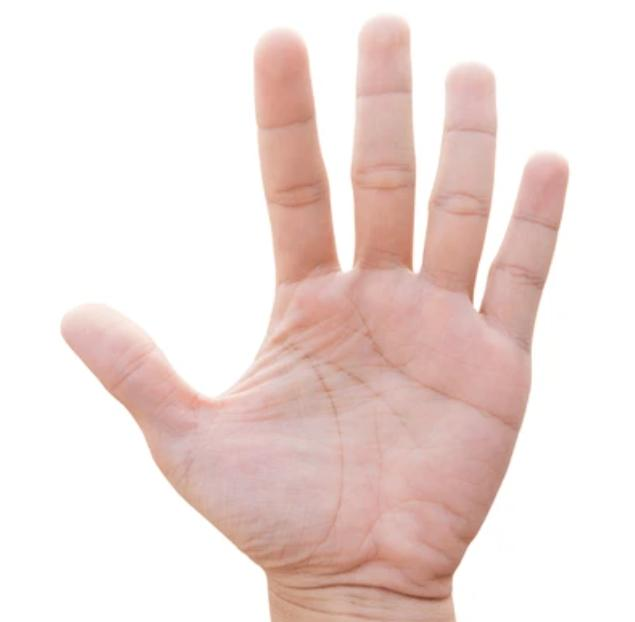family ring: (176, 399, 196, 486)
fate line: (374, 274, 399, 517)
head line: (277, 340, 421, 450)
heart line: (342, 294, 516, 428)
life line: (279, 342, 348, 571)
